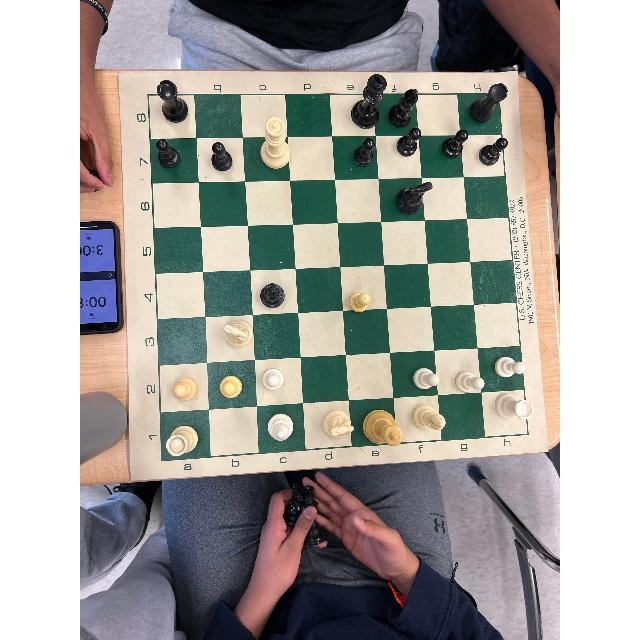black-bishop: (386, 82, 423, 130), (256, 279, 288, 314)
black-king: (348, 70, 390, 131)
black-knight: (393, 179, 434, 221)
black-pawn: (475, 132, 513, 173), (438, 124, 473, 168), (151, 131, 187, 173), (205, 139, 239, 178), (393, 124, 427, 159), (351, 134, 379, 172)
black-rook: (465, 78, 514, 127), (150, 76, 195, 127)
white-bishop: (409, 400, 448, 433), (265, 408, 297, 443)
white-king: (359, 406, 409, 454)
white-knight: (217, 315, 259, 349), (320, 406, 358, 443)
white-pawn: (452, 367, 489, 398), (492, 353, 529, 382), (410, 363, 443, 394), (214, 372, 246, 402), (170, 373, 201, 403), (259, 363, 287, 395), (344, 288, 375, 316)
white-queen: (254, 113, 297, 175)
white-rook: (158, 421, 201, 460), (493, 388, 537, 424)
